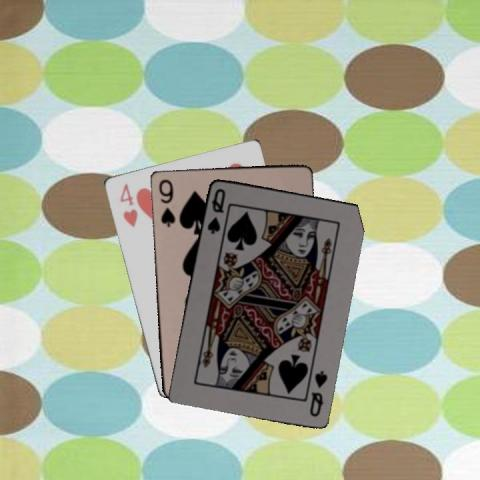4h: (116, 180, 138, 228)
9s: (155, 176, 177, 229)
Qs: (204, 185, 227, 235), (306, 368, 329, 418)
